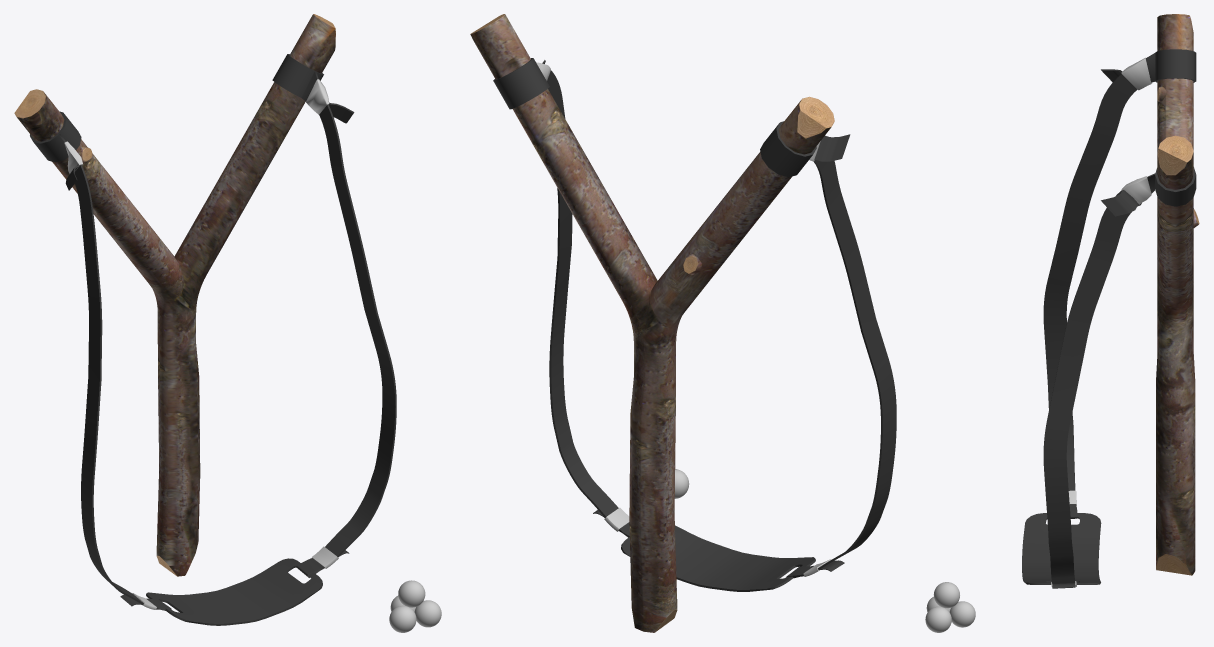
Rendered from slingshot.fbx.
3 views of the same model, side by side, from view 1: azimuth 30°, elevation 25°; view 2: azimuth 150°, elevation 25°; view 3: azimuth 270°, elevation 25° (orthographic). The views are drawn at different scales.
Parts seen in each view (by area): view 1: Line001, Plane001, Sphere004, Plane004, Plane005; view 2: Line001, Plane001, Plane005, Plane004; view 3: Line001, Plane001, Sphere004, Plane004, Plane005.
Boxes of the visible parts, x1=… form: Line001: x1=14, y1=14, x2=335, y2=576; Plane001: x1=59, y1=72, x2=396, y2=625; Sphere004: x1=389, y1=580, x2=441, y2=632; Plane004: x1=64, y1=79, x2=338, y2=609; Plane005: x1=65, y1=102, x2=354, y2=606; Line001: x1=470, y1=14, x2=834, y2=632; Plane001: x1=547, y1=70, x2=896, y2=591; Plane005: x1=542, y1=60, x2=850, y2=571; Plane004: x1=536, y1=62, x2=831, y2=576; Line001: x1=1155, y1=14, x2=1199, y2=575; Plane001: x1=1022, y1=53, x2=1155, y2=584; Sphere004: x1=925, y1=582, x2=975, y2=632; Plane004: x1=1051, y1=57, x2=1152, y2=587; Plane005: x1=1052, y1=69, x2=1141, y2=588.
Bounding box in the file's own units: 424 × 650 × 322.
